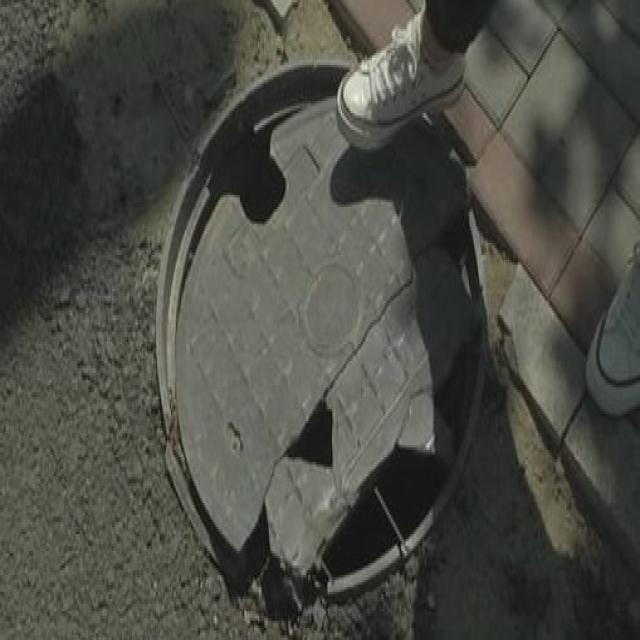Broken: (154, 53, 486, 594)
